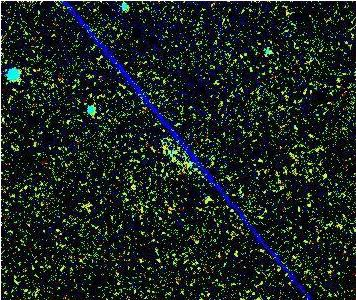star: (73, 193, 103, 223)
